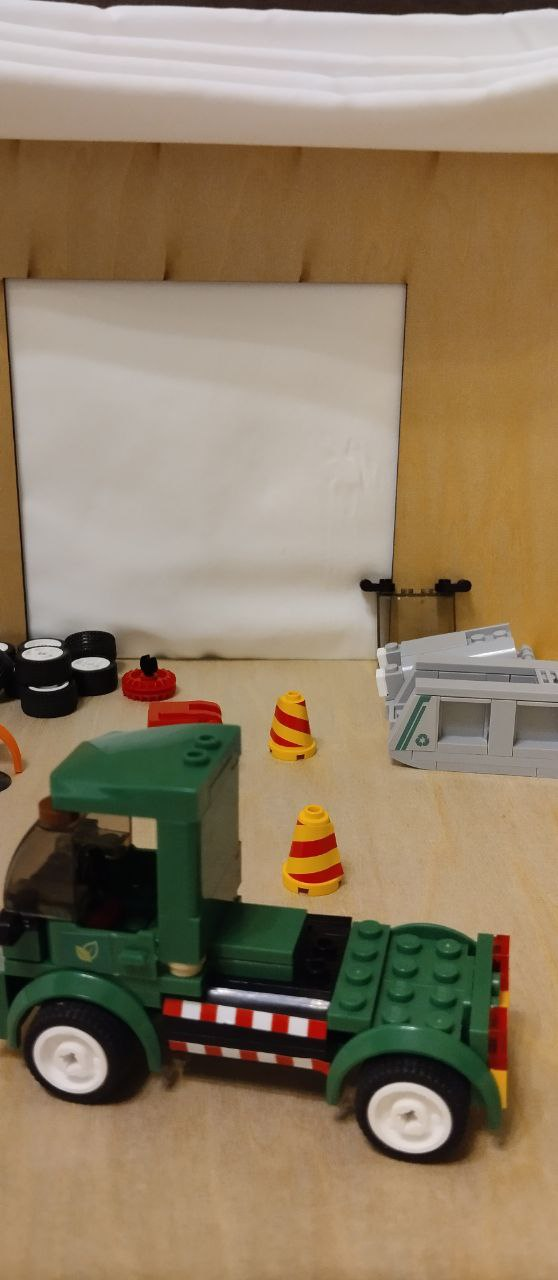Cone: (279, 802, 352, 898), (260, 689, 327, 764), (142, 696, 227, 732)
Truck: (1, 722, 534, 1166)
